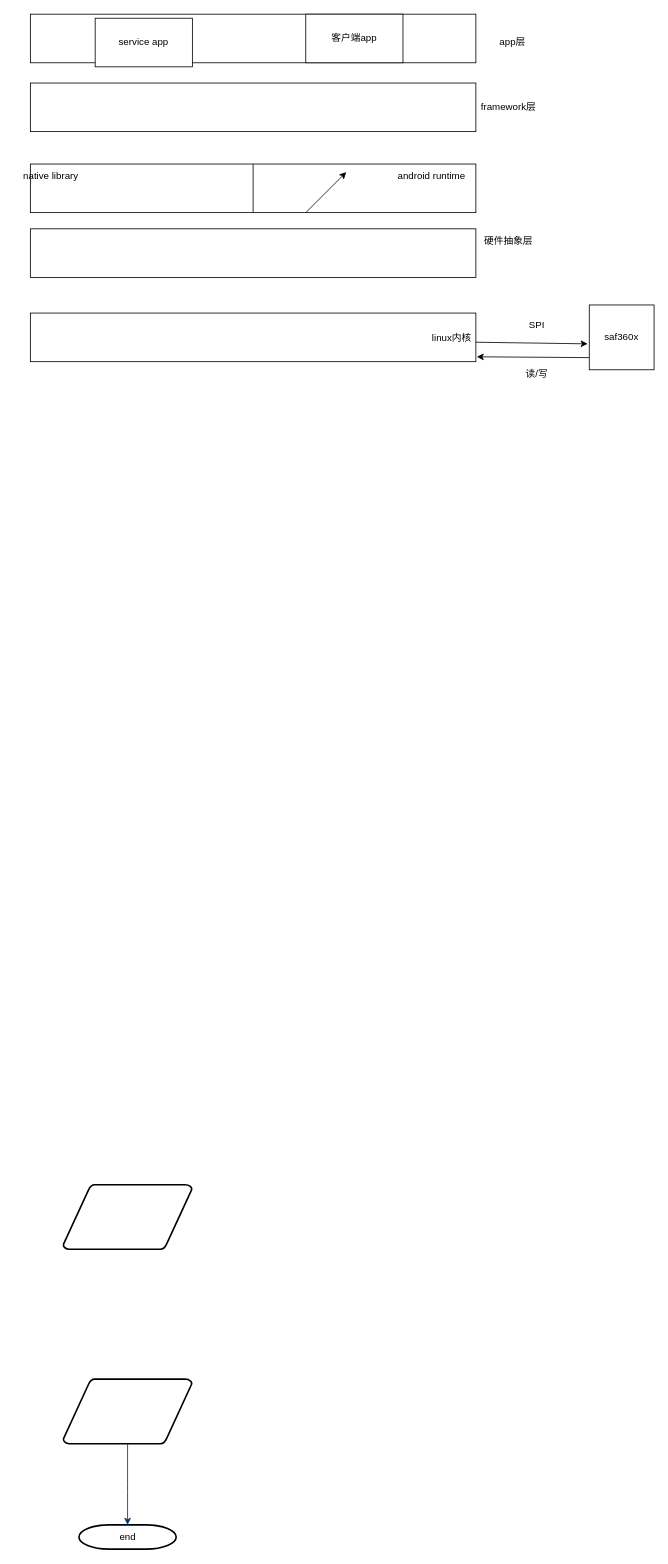
The diagram is 668 pixels wide and 1564 high, and some of its shapes have lost their labels. Here are the shapes that lost their labels. From the top down, the centre of each, then its label:
At pixel 127 1216: "create status report".
At pixel 127 1411: "create final report".
